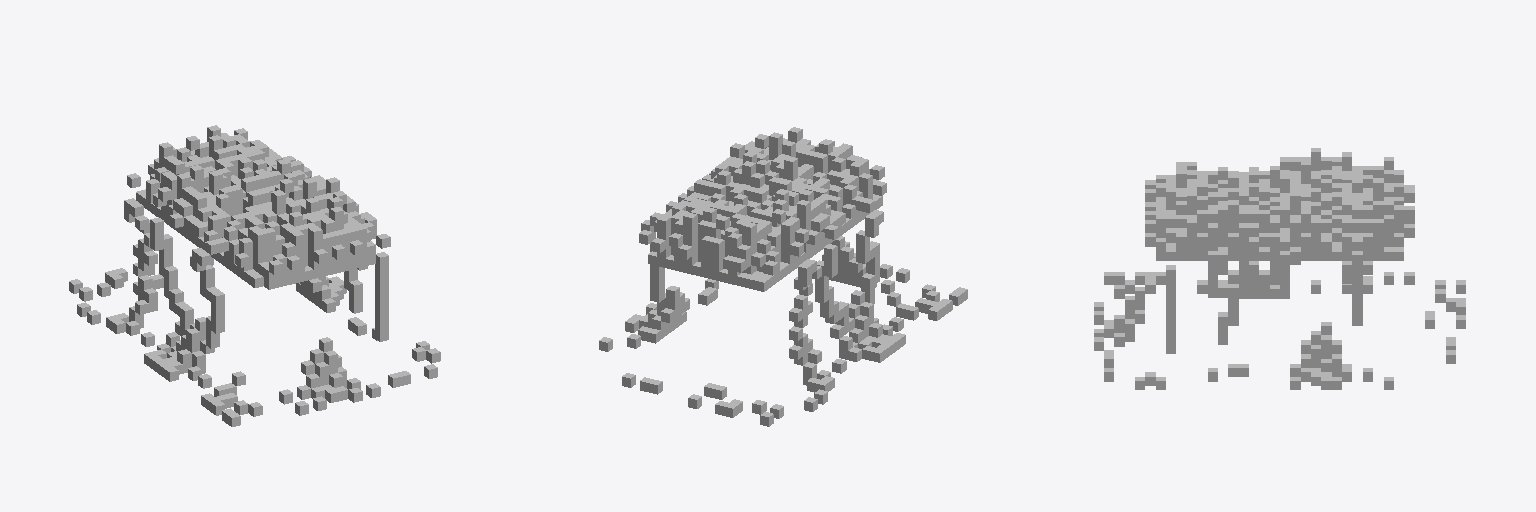
The model's file is Treasure_Interior.obj.
3 views of the same model, side by side, from view 1: azimuth 30°, elevation 25°; view 2: azimuth 150°, elevation 25°; view 3: azimuth 270°, elevation 25° (orthographic).
Parts seen in each view (by area): view 1: Treasure_Interior; view 2: Treasure_Interior; view 3: Treasure_Interior.
Part boxes in pixels (left/top/right/bottom): Treasure_Interior: left=69, top=125, right=440, bottom=426; Treasure_Interior: left=599, top=127, right=967, bottom=426; Treasure_Interior: left=1094, top=148, right=1465, bottom=389.
Bounding box in the file's own units: 2.5 × 1.7 × 3.6.